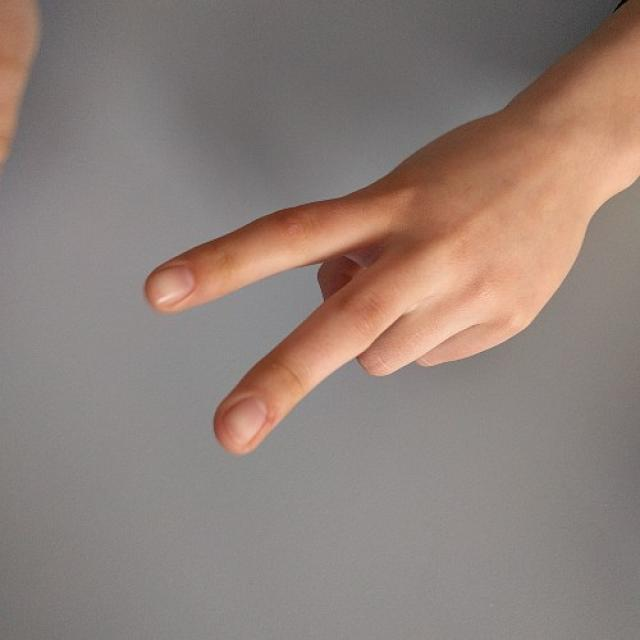scissors: (146, 198, 548, 457)
